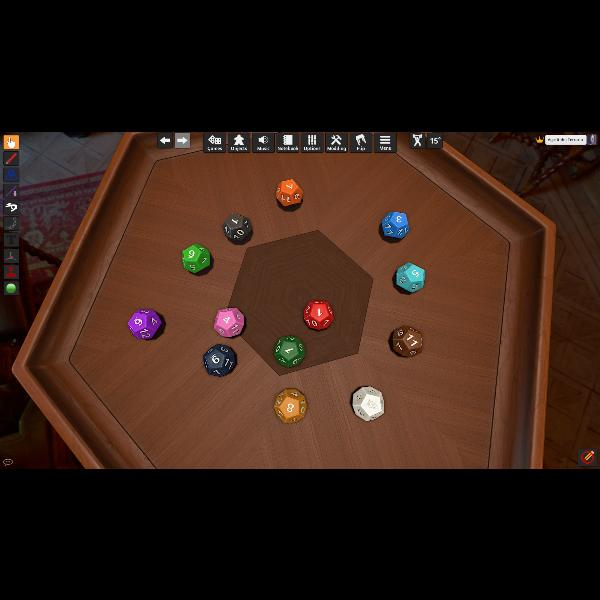d12: (274, 388, 306, 424), (351, 384, 383, 420), (128, 308, 162, 340), (203, 344, 235, 378), (274, 335, 305, 367), (213, 307, 243, 337), (304, 300, 334, 330), (395, 326, 423, 357), (395, 262, 423, 292), (182, 244, 210, 274), (276, 178, 304, 206), (222, 213, 250, 241), (381, 211, 406, 239)
